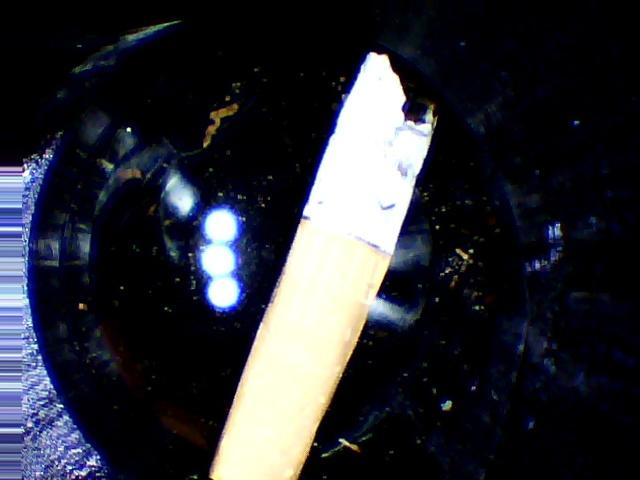megot: (198, 48, 445, 479)
